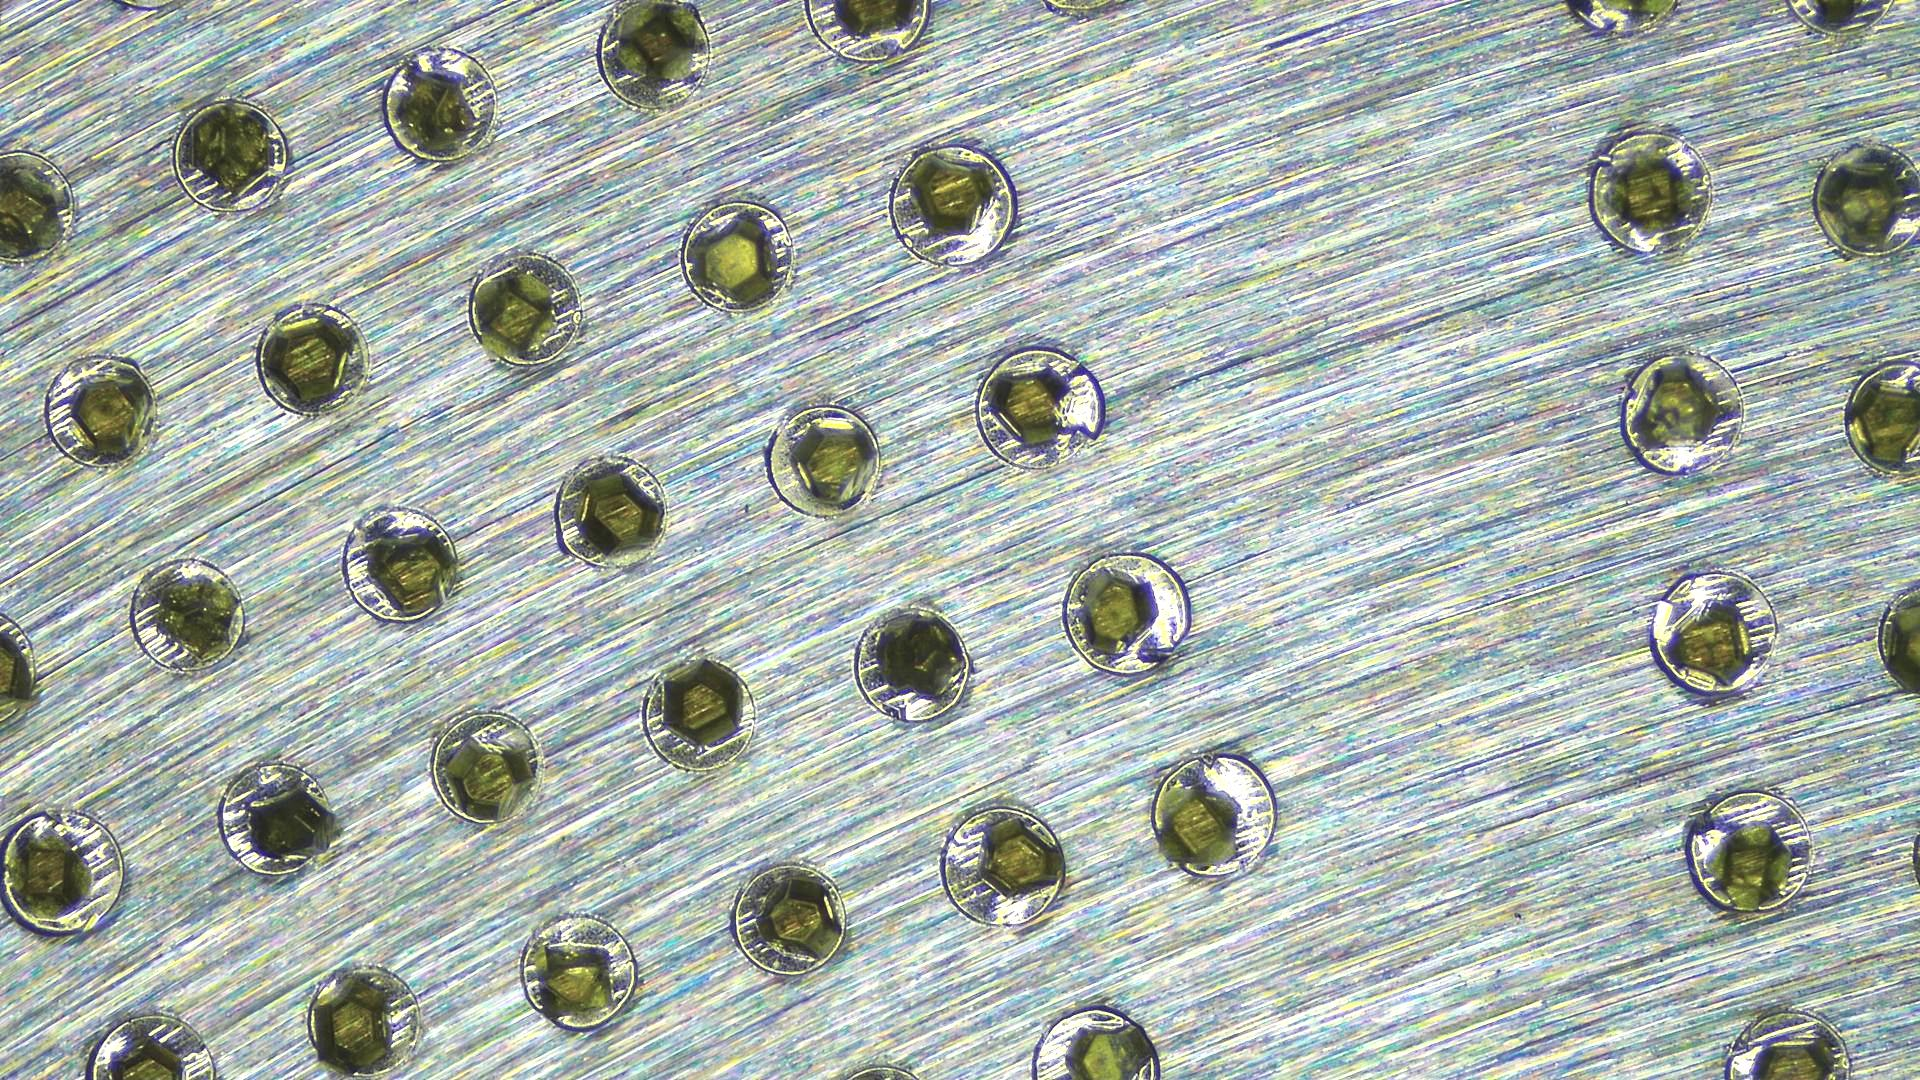break: (0, 149, 94, 280)
miss: (214, 754, 342, 884)
